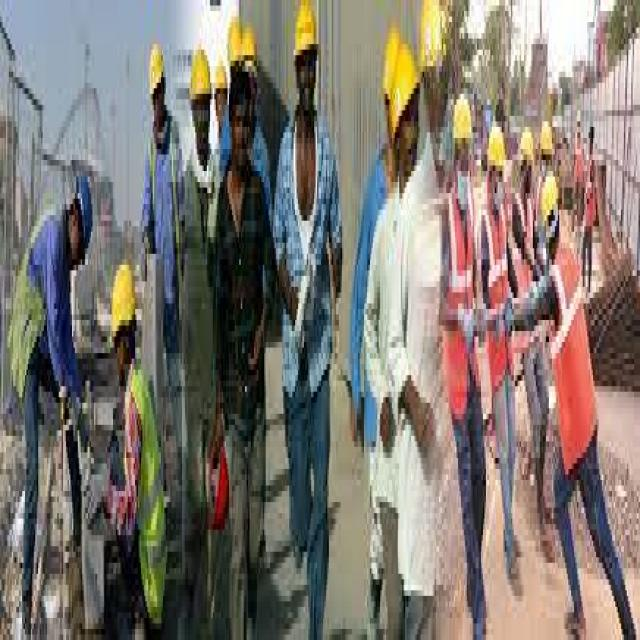Reflective-Jacket: (6, 182, 69, 403), (123, 359, 169, 629), (547, 248, 599, 486), (478, 204, 509, 392)
Safety-Helmet: (380, 22, 423, 138), (226, 5, 261, 89), (109, 254, 138, 342), (74, 166, 95, 270), (291, 0, 323, 66), (188, 33, 213, 105), (451, 83, 474, 154), (486, 116, 508, 182), (540, 166, 561, 232), (147, 33, 166, 99), (540, 116, 554, 160)
